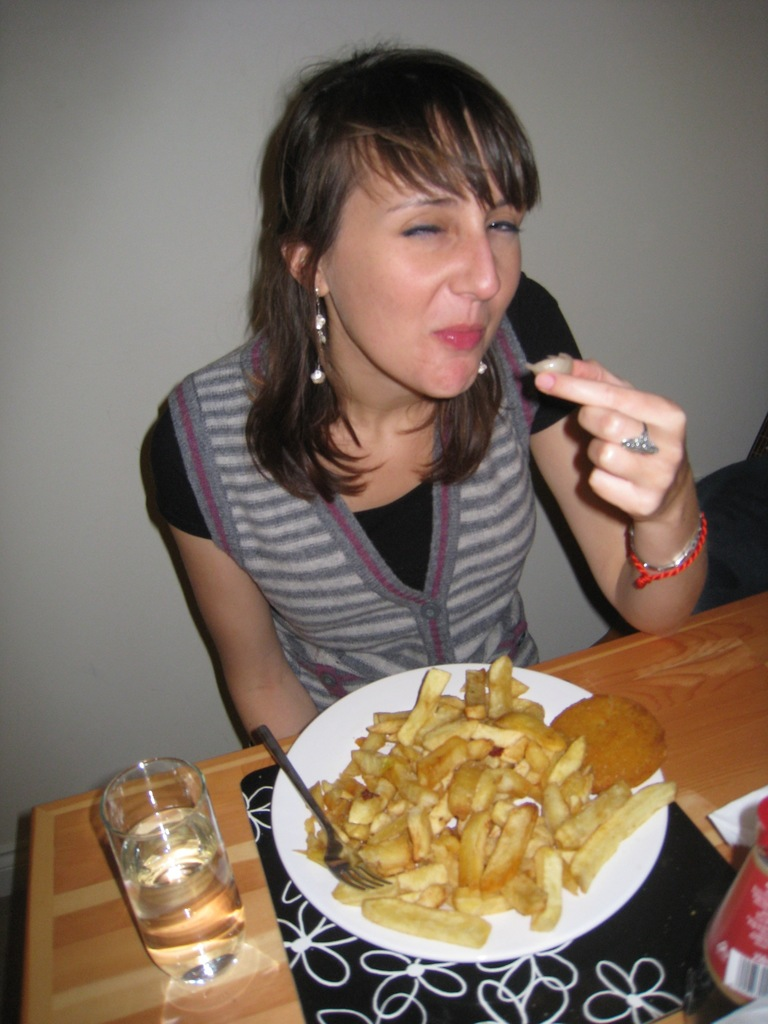French fries: (293, 653, 675, 954)
